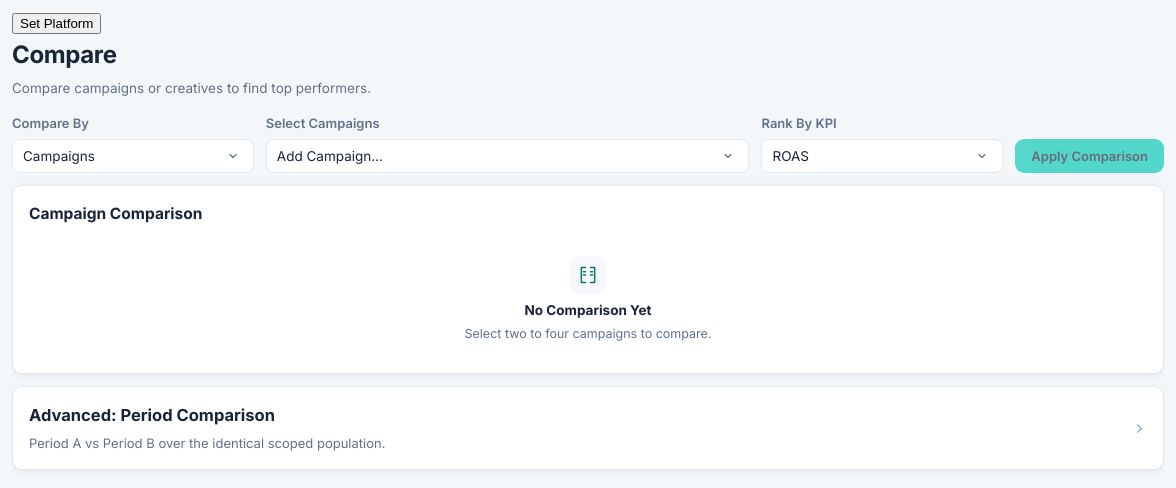
Test case: ComparePage › shows a creative option failure instead of the creative selection instruction
Select "Creatives" in the dropdown labelled "Compare By" at (133, 156), box x1=12 y1=139 x2=254 y2=173
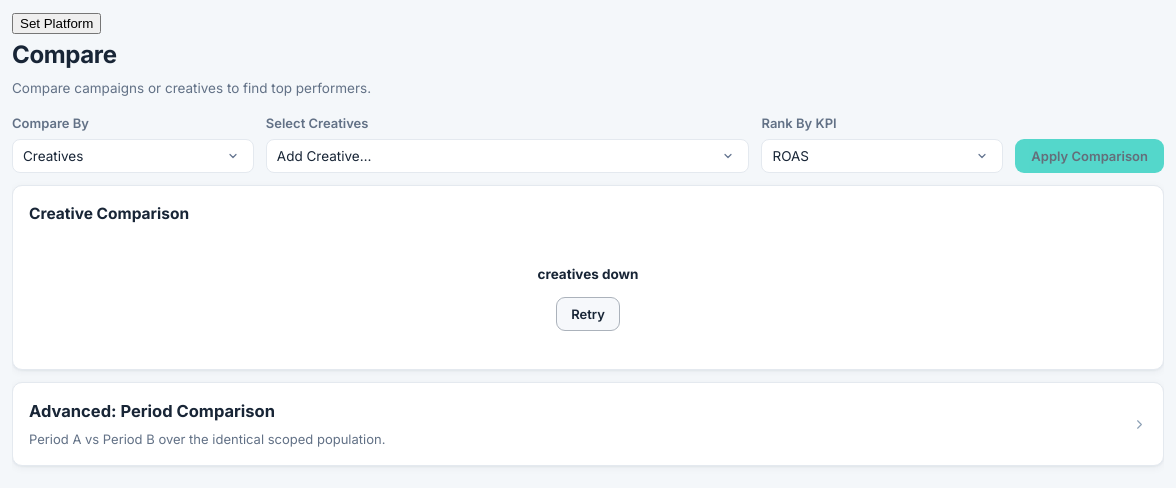
Expected: the text "creatives down" is shown, x1=538 y1=264 x2=638 y2=285
Expected: the button "Retry" is shown, x1=556 y1=297 x2=620 y2=331
